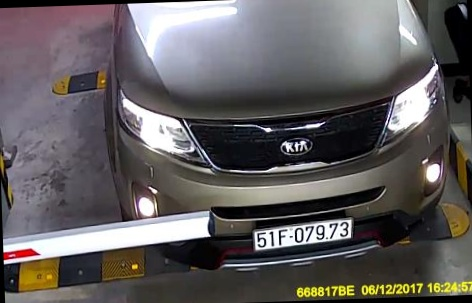plate: (243, 209, 364, 261)
